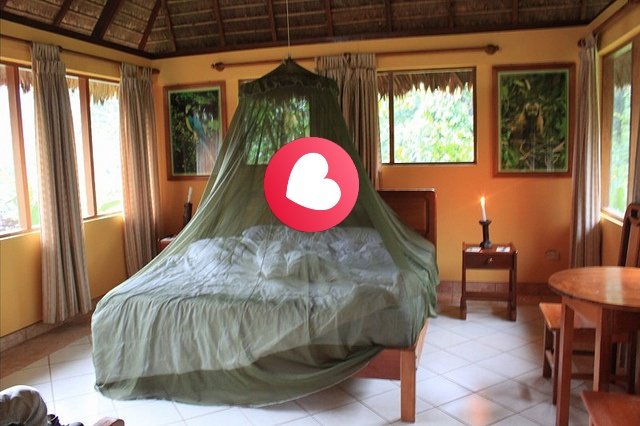love: (264, 137, 359, 232)
